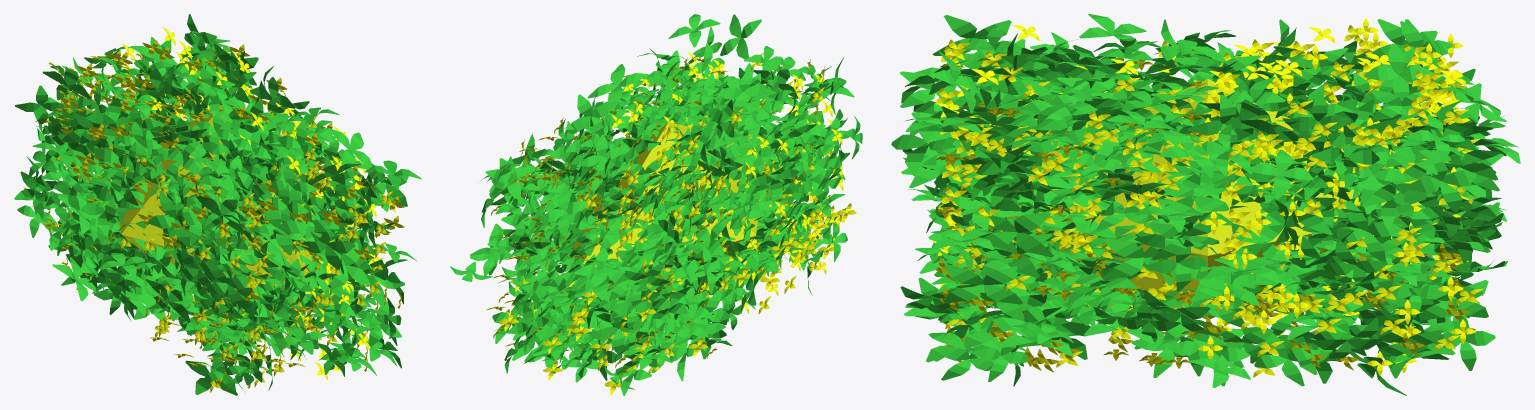
Rendered from bushYellowFlower.fbx.
3 views of the same model, side by side, from view 1: azimuth 30°, elevation 25°; view 2: azimuth 150°, elevation 25°; view 3: azimuth 270°, elevation 25° (orthographic). The views are drawn at different scales.
Parts seen in each view (by area): view 1: bushFlower.001, bushFlower.001|leaf|Dupli|85, bushFlower.001|leaf|Dupli|481, bushFlower.001|leaf|Dupli|111, bushFlower.001|leaf|Dupli|1006, bushFlower.001|leaf|Dupli|273, bushFlower.001|leaf|Dupli|475, bushFlower.001|leaf|Dupli|509, bushFlower.001|leaf|Dupli|687, bushFlower.001|leaf|Dupli|771, bushFlower.001|leaf|Dupli|980, bushFlower.001|leaf|Dupli|749 (+62 smaller); view 2: bushFlower.001, bushFlower.001|leaf|Dupli|488, bushFlower.001|leaf|Dupli|174, bushFlower.001|leaf|Dupli|541, bushFlower.001|leaf|Dupli|314, bushFlower.001|leaf|Dupli|440, bushFlower.001|leaf|Dupli|117, bushFlower.001|leaf|Dupli|171, bushFlower.001|leaf|Dupli|216, bushFlower.001|leaf|Dupli|786, bushFlower.001|leaf|Dupli|616, bushFlower.001|leaf|Dupli|75 (+47 smaller); view 3: bushFlower.001, bushFlower.001|leaf|Dupli|305, bushFlower.001|leaf|Dupli|507, bushFlower.001|leaf|Dupli|806, bushFlower.001|leaf|Dupli|953, bushFlower.001|leaf|Dupli|67, bushFlower.001|leaf|Dupli|555, bushFlower.001|leaf|Dupli|808, bushFlower.001|leaf|Dupli|111, bushFlower.001|leaf|Dupli|109, bushFlower.001|leaf|Dupli|80, bushFlower.001|leaf|Dupli|747 (+92 smaller).
Boxes of the visible parts, x1,y1,x2,y2 form: bushFlower.001: (119, 117, 311, 294); bushFlower.001|leaf|Dupli|85: (246, 200, 309, 255); bushFlower.001|leaf|Dupli|481: (147, 190, 199, 247); bushFlower.001|leaf|Dupli|111: (299, 219, 355, 269); bushFlower.001|leaf|Dupli|1006: (206, 259, 250, 308); bushFlower.001|leaf|Dupli|273: (86, 98, 141, 146); bushFlower.001|leaf|Dupli|475: (324, 242, 370, 288); bushFlower.001|leaf|Dupli|509: (196, 196, 244, 233); bushFlower.001|leaf|Dupli|687: (328, 128, 372, 168); bushFlower.001|leaf|Dupli|771: (145, 279, 190, 322); bushFlower.001|leaf|Dupli|980: (92, 178, 135, 221); bushFlower.001|leaf|Dupli|749: (269, 165, 317, 204); bushFlower.001: (568, 122, 763, 299); bushFlower.001|leaf|Dupli|488: (565, 94, 616, 137); bushFlower.001|leaf|Dupli|174: (540, 186, 588, 236); bushFlower.001|leaf|Dupli|541: (588, 64, 648, 107); bushFlower.001|leaf|Dupli|314: (720, 14, 761, 59); bushFlower.001|leaf|Dupli|440: (718, 68, 768, 115); bushFlower.001|leaf|Dupli|117: (642, 185, 694, 232); bushFlower.001|leaf|Dupli|171: (690, 218, 730, 260); bushFlower.001|leaf|Dupli|216: (590, 313, 646, 354); bushFlower.001|leaf|Dupli|786: (579, 134, 627, 178); bushFlower.001|leaf|Dupli|616: (607, 261, 648, 300); bushFlower.001|leaf|Dupli|75: (648, 286, 690, 329); bushFlower.001: (1007, 79, 1470, 319); bushFlower.001|leaf|Dupli|305: (943, 264, 1023, 304); bushFlower.001|leaf|Dupli|507: (982, 212, 1053, 257); bushFlower.001|leaf|Dupli|806: (1405, 156, 1476, 212); bushFlower.001|leaf|Dupli|953: (1155, 175, 1232, 215); bushFlower.001|leaf|Dupli|67: (1332, 200, 1402, 261); bushFlower.001|leaf|Dupli|555: (986, 301, 1061, 347); bushFlower.001|leaf|Dupli|808: (1364, 43, 1432, 105); bushFlower.001|leaf|Dupli|111: (891, 111, 959, 175); bushFlower.001|leaf|Dupli|109: (1312, 125, 1379, 188); bushFlower.001|leaf|Dupli|80: (1149, 213, 1219, 259); bushFlower.001|leaf|Dupli|747: (1254, 332, 1320, 386).
Size of the model in its own units: 102 by 102 by 194.
